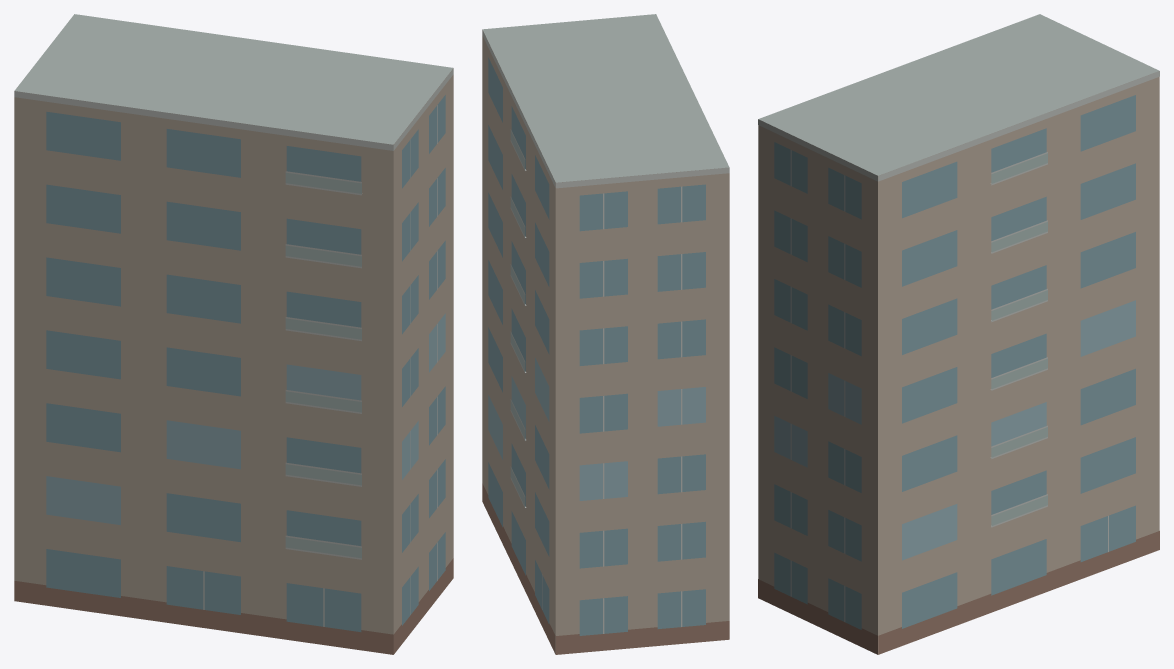
File: survey-upis-33022288.glb
The picture shows the model from 3 angles, left to right: view 1: azimuth 30°, elevation 25°; view 2: azimuth 150°, elevation 25°; view 3: azimuth 270°, elevation 25°; orthographic projection. The views are drawn at different scales.
Parts seen in each view (by area): view 1: survey-upis-33022288.tmp; view 2: survey-upis-33022288.tmp; view 3: survey-upis-33022288.tmp.
Part boxes in pixels (bbox=[...]): survey-upis-33022288.tmp: bbox=[14, 14, 453, 654]; survey-upis-33022288.tmp: bbox=[482, 14, 729, 654]; survey-upis-33022288.tmp: bbox=[758, 14, 1159, 654].
Bounding box in the file's own units: 14.5 × 20 × 15.2.
